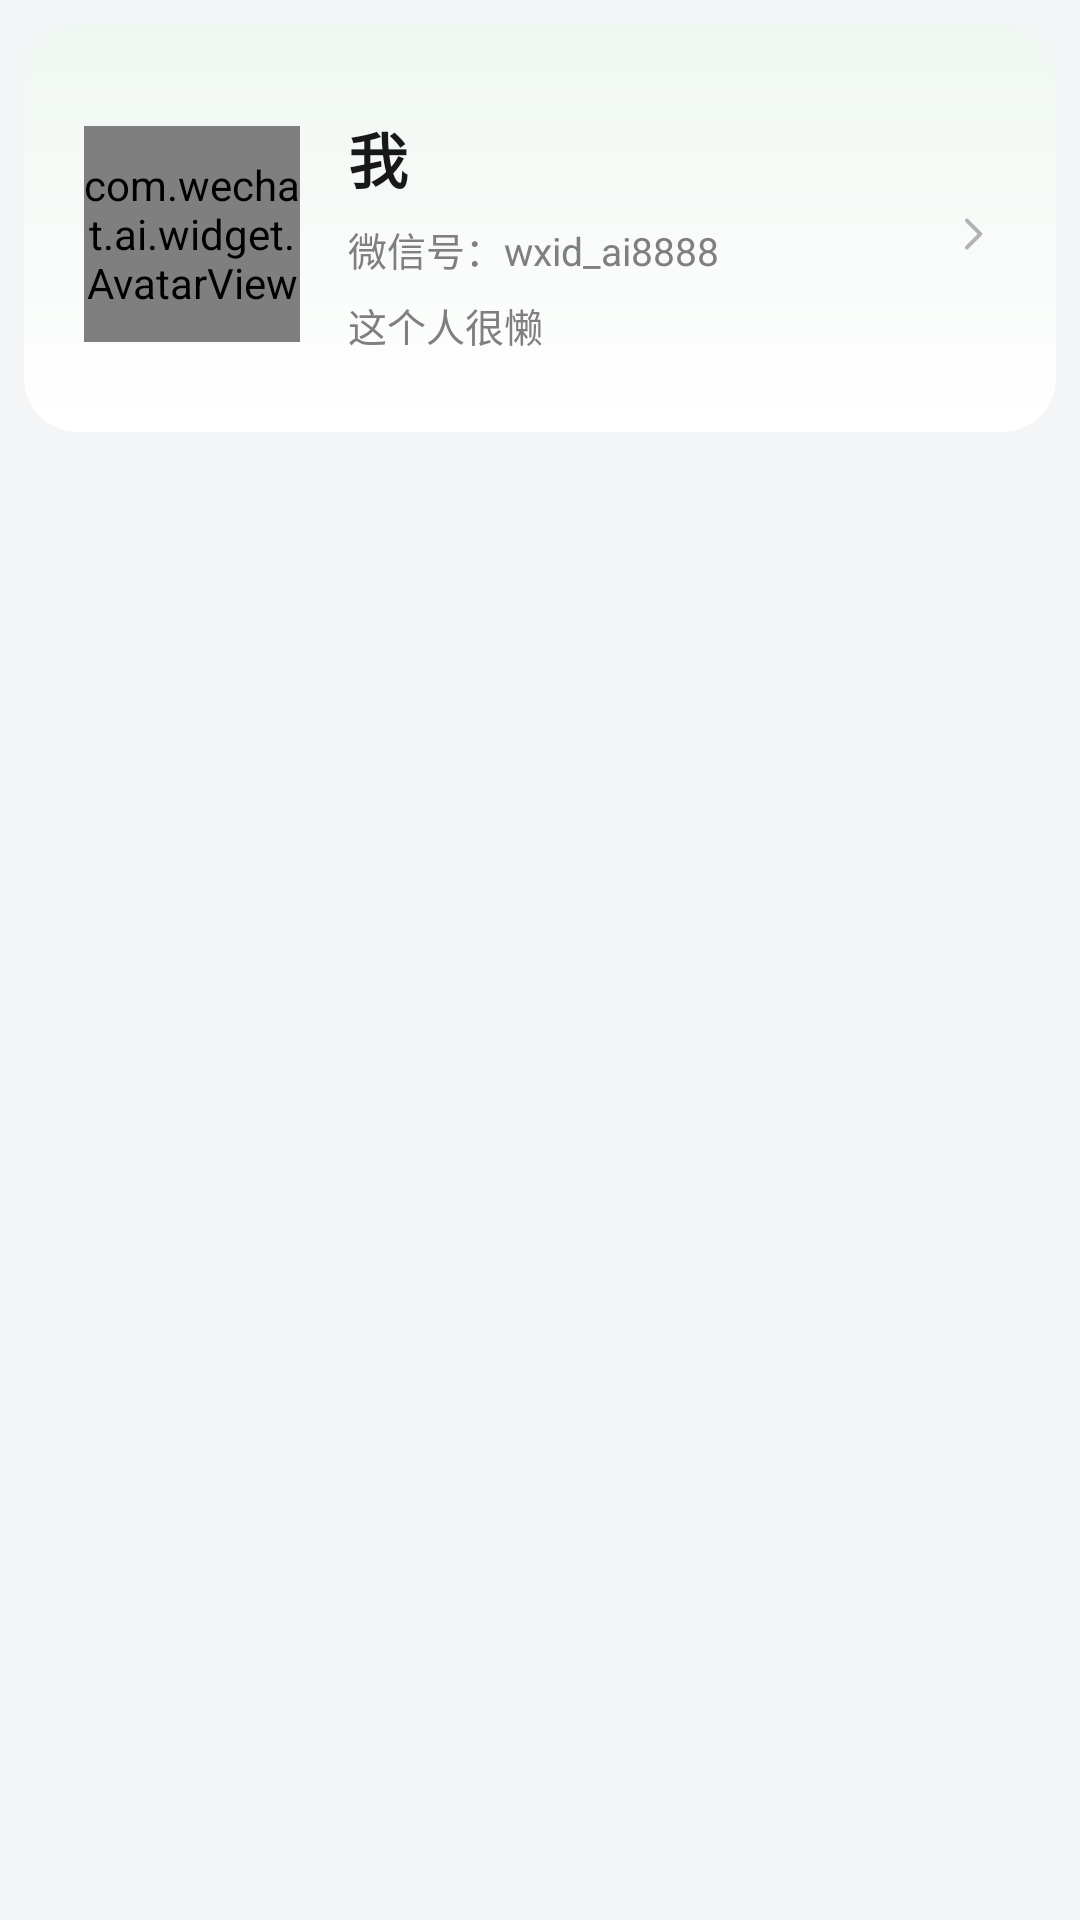

Named icons in this screenshot (1080×1920) and their centers, [x,y]:
arrow right: [973,234]
